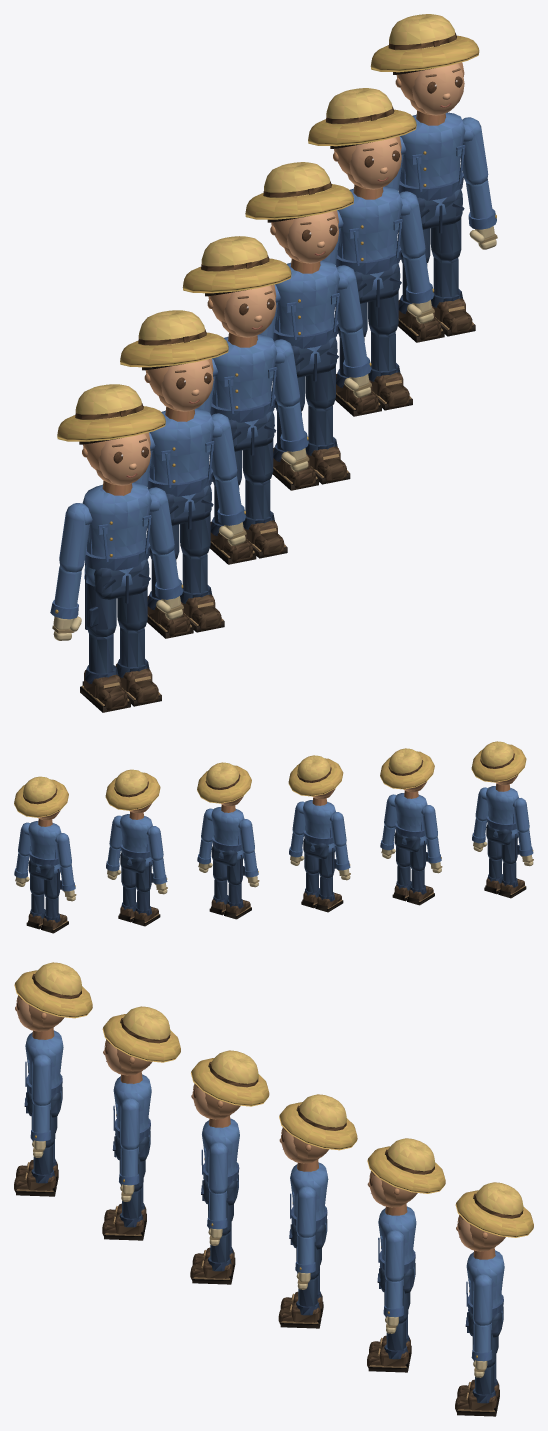
File: ba-idle-tq-after.glb
3 renders of one model, top to bottom at view 1: azimuth 30°, elevation 25°; view 2: azimuth 150°, elevation 25°; view 3: azimuth 270°, elevation 25°, orthographic. The views are drawn at different scales.
Parts seen in each view (by area): view 1: denimJacketTorso (×6), strawHat (×6), head (×6), leftShin (×6), rightShin (×6), leftUpperArm (×6), trouserHips (×6), leftLowerArm (×6), leftThigh (×6), rightUpperArm, rightThigh, rightLowerArm; view 2: strawHat (×6), denimJacketTorso (×6), rightShin (×6), leftShin (×6), rightUpperArm (×6), rightThigh (×6), trouserHips (×6), leftUpperArm (×6), rightLowerArm (×6), leftLowerArm (×6), leftThigh (×6); view 3: strawHat (×6), denimJacketTorso (×6), leftShin (×6), leftUpperArm (×6), head (×6), leftLowerArm (×6).
Part boxes in pixels (<box>): denimJacketTorso (×6): <box>82,110,465,586</box>; strawHat (×6): <box>57,14,479,441</box>; head (×6): <box>79,62,464,485</box>; leftShin (×6): <box>115,257,475,706</box>; rightShin (×6): <box>80,264,444,712</box>; leftUpperArm (×6): <box>147,117,488,555</box>; trouserHips (×6): <box>85,189,464,603</box>; leftLowerArm (×6): <box>152,179,496,599</box>; leftThigh (×6): <box>117,218,461,630</box>; rightUpperArm: <box>59,503,92,572</box>; rightThigh: <box>85,574,116,636</box>; rightLowerArm: <box>50,566,81,619</box>; strawHat (×6): <box>14,741,526,817</box>; denimJacketTorso (×6): <box>28,784,518,873</box>; rightShin (×6): <box>41,862,526,933</box>; leftShin (×6): <box>26,858,502,929</box>; rightUpperArm (×6): <box>55,798,529,867</box>; rightThigh (×6): <box>44,833,519,899</box>; trouserHips (×6): <box>28,824,518,880</box>; leftUpperArm (×6): <box>18,787,488,856</box>; rightLowerArm (×6): <box>60,830,533,891</box>; leftLowerArm (×6): <box>14,818,486,878</box>; leftThigh (×6): <box>30,839,501,894</box>; strawHat (×6): <box>14,962,533,1237</box>; denimJacketTorso (×6): <box>25,1028,504,1329</box>; leftShin (×6): <box>14,1145,497,1416</box>; leftUpperArm (×6): <box>31,1054,492,1325</box>; head (×6): <box>15,995,505,1251</box>; leftLowerArm (×6): <box>30,1103,492,1361</box>.
Size of what is drawn, in the model's own units: 6.19 by 2.41 by 5.15.
